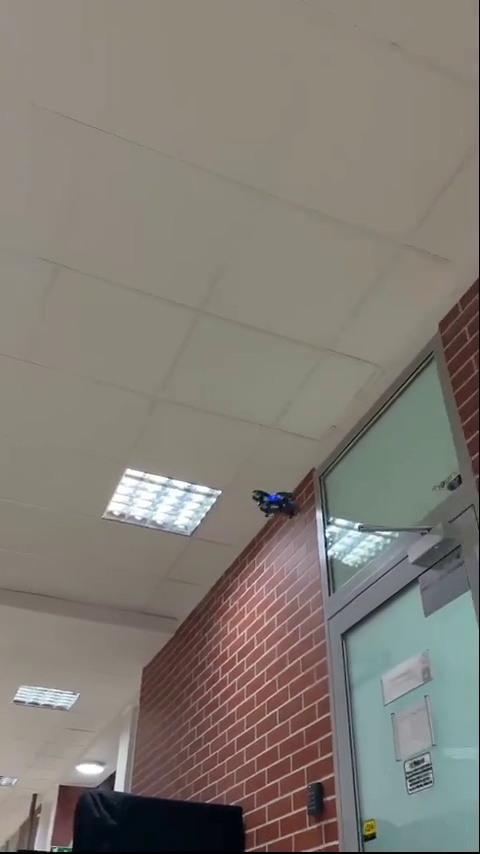drone: (249, 487, 295, 518)
